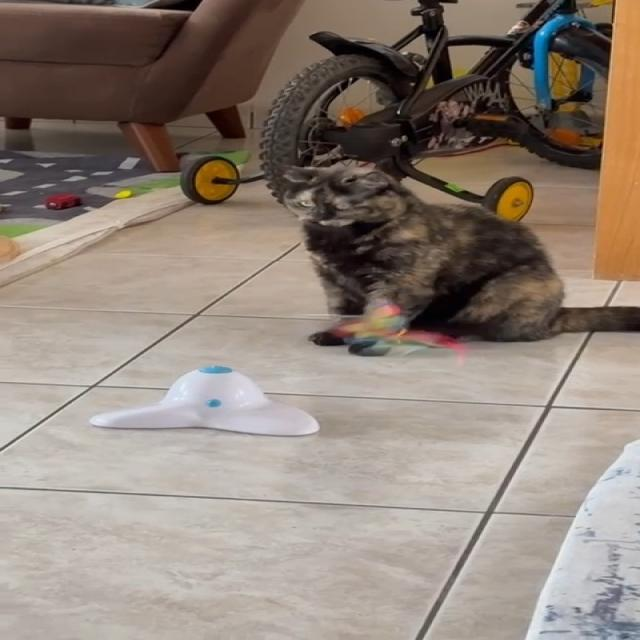authorized: (265, 162, 639, 346)
